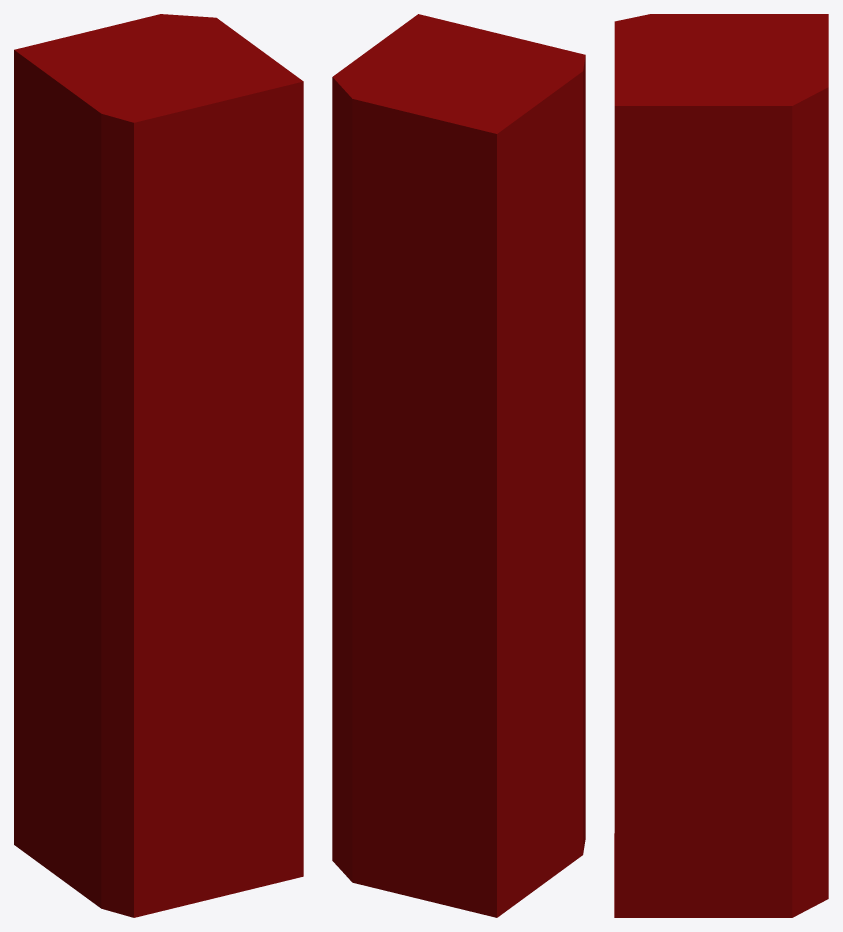
File: New Game Object (60).obj
The picture shows the model from 3 angles, left to right: view 1: azimuth 30°, elevation 25°; view 2: azimuth 150°, elevation 25°; view 3: azimuth 270°, elevation 25°; orthographic projection. The views are drawn at different scales.
Visible parts, largest first — view 1: New Game Object (60)_0, New Game Object (60)_1; view 2: New Game Object (60)_0, New Game Object (60)_1; view 3: New Game Object (60)_0, New Game Object (60)_1.
Boxes of the visible parts, left/top/right/bottom form: New Game Object (60)_0: left=14, top=50, right=303, bottom=917; New Game Object (60)_1: left=14, top=14, right=303, bottom=122; New Game Object (60)_0: left=332, top=56, right=585, bottom=917; New Game Object (60)_1: left=333, top=14, right=585, bottom=133; New Game Object (60)_0: left=614, top=87, right=828, bottom=917; New Game Object (60)_1: left=614, top=14, right=828, bottom=917.
Size of the model in its own units: 9.8 by 40.28 by 9.64.
